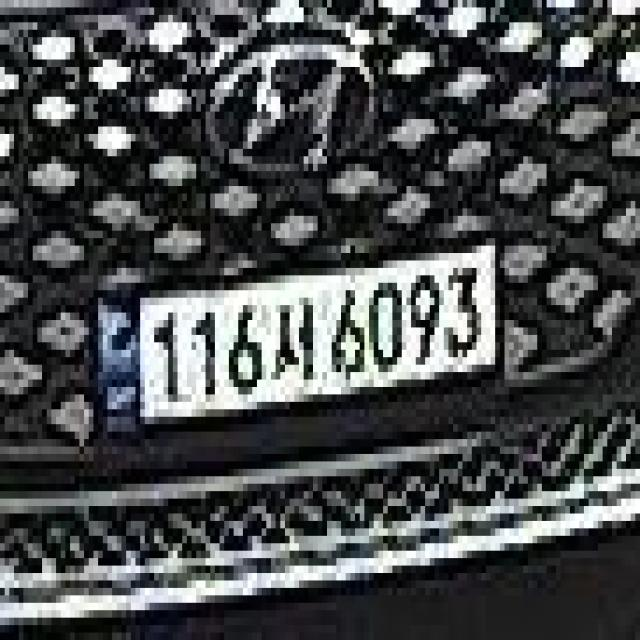illegal_plate: (95, 247, 502, 425)
